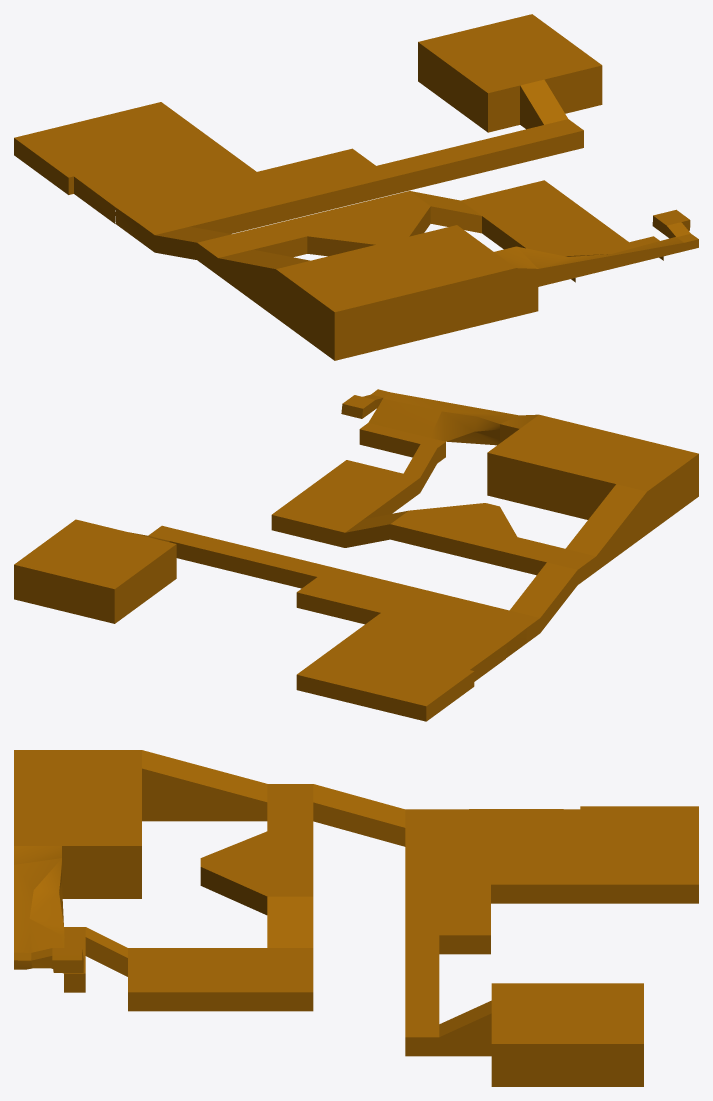
The model's file is Floor.fbx.
3 renders of one model, top to bottom at view 1: azimuth 30°, elevation 25°; view 2: azimuth 150°, elevation 25°; view 3: azimuth 270°, elevation 25°, orthographic. The views are drawn at different scales.
Visible parts, largest first — view 1: Floor; view 2: Floor; view 3: Floor.
Part boxes in pixels (x1,y1,x2,y2): Floor: [14, 14, 698, 360]; Floor: [14, 389, 698, 721]; Floor: [14, 750, 698, 1086].
Size of the model in its own units: 40600 by 5675 by 44926.
